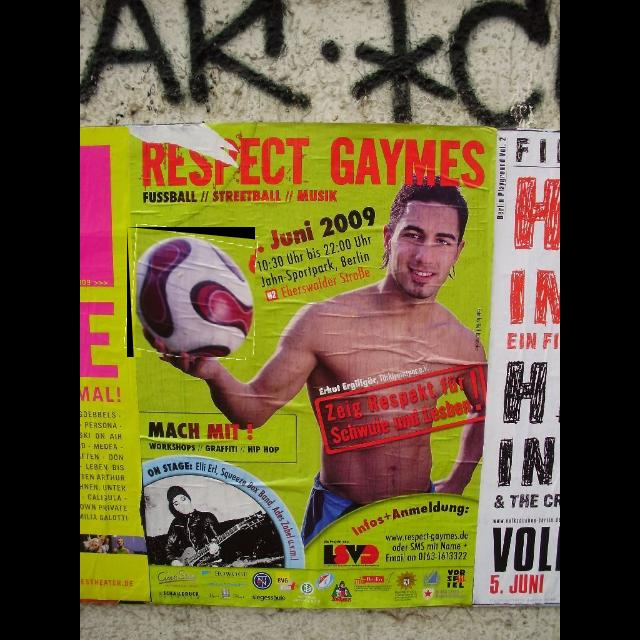Football: (127, 227, 255, 357)
